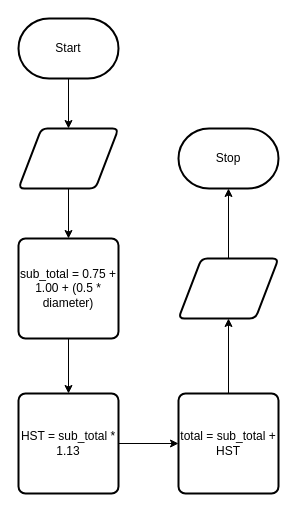
Image size: 296x511. Some labels were removed from this diagram. Each missing label, with the centre of its shape:
"Get the diameter" goes at (68,158).
"Show cost" goes at (228,288).
